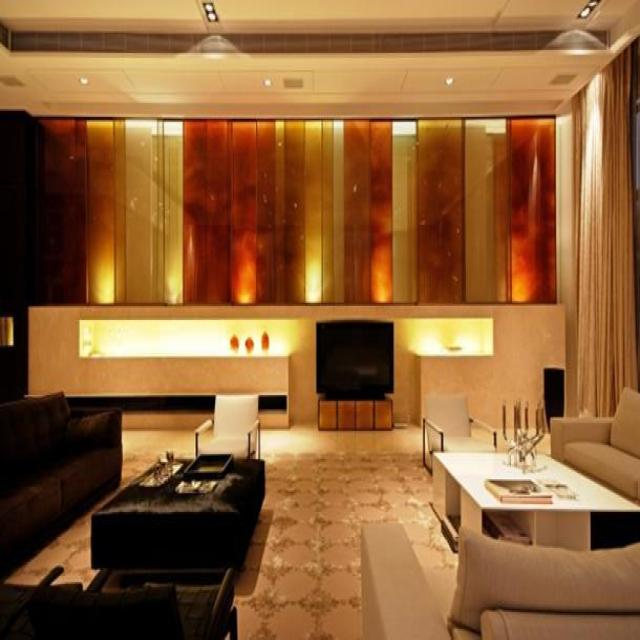other: (93, 330, 284, 354), (228, 231, 264, 302), (364, 231, 396, 306), (509, 246, 547, 302), (399, 332, 479, 352), (89, 248, 117, 302), (302, 250, 324, 302), (162, 258, 182, 308)
